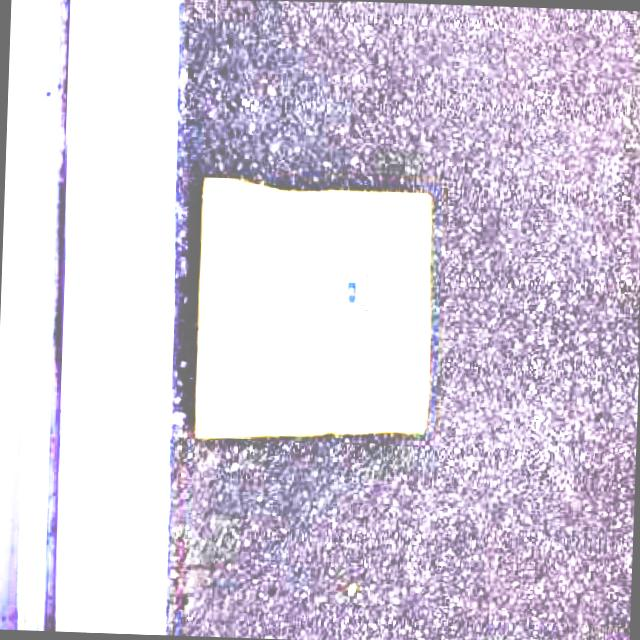Box: (187, 165, 442, 449)
